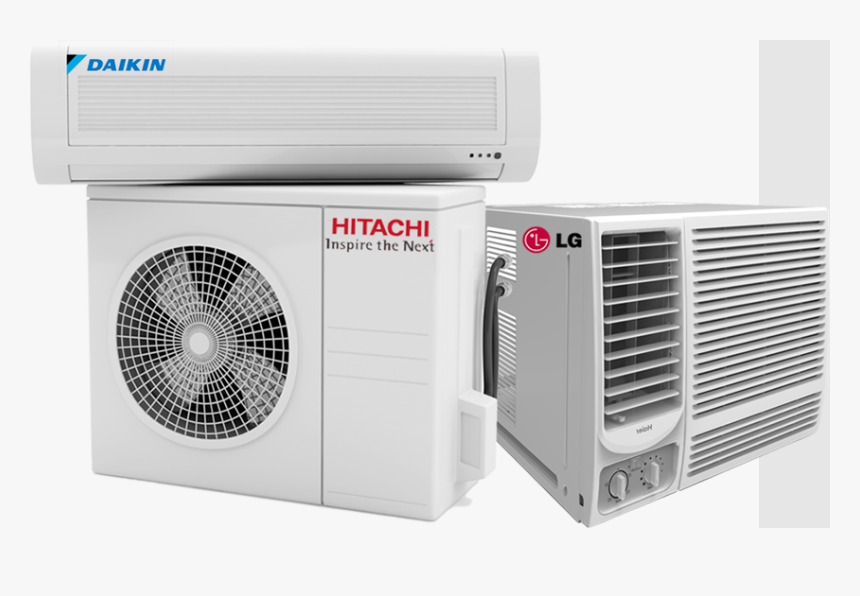AC: (32, 43, 538, 184)
